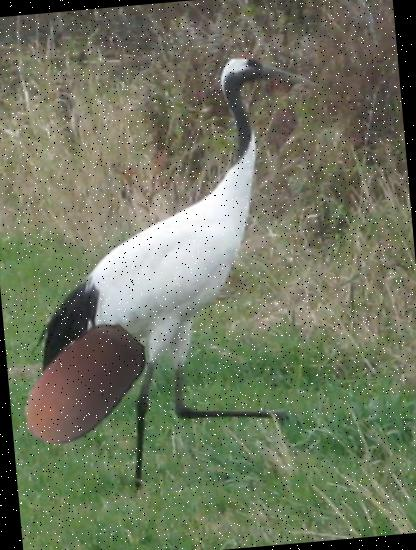Hazelnut: (3, 308, 160, 466)
